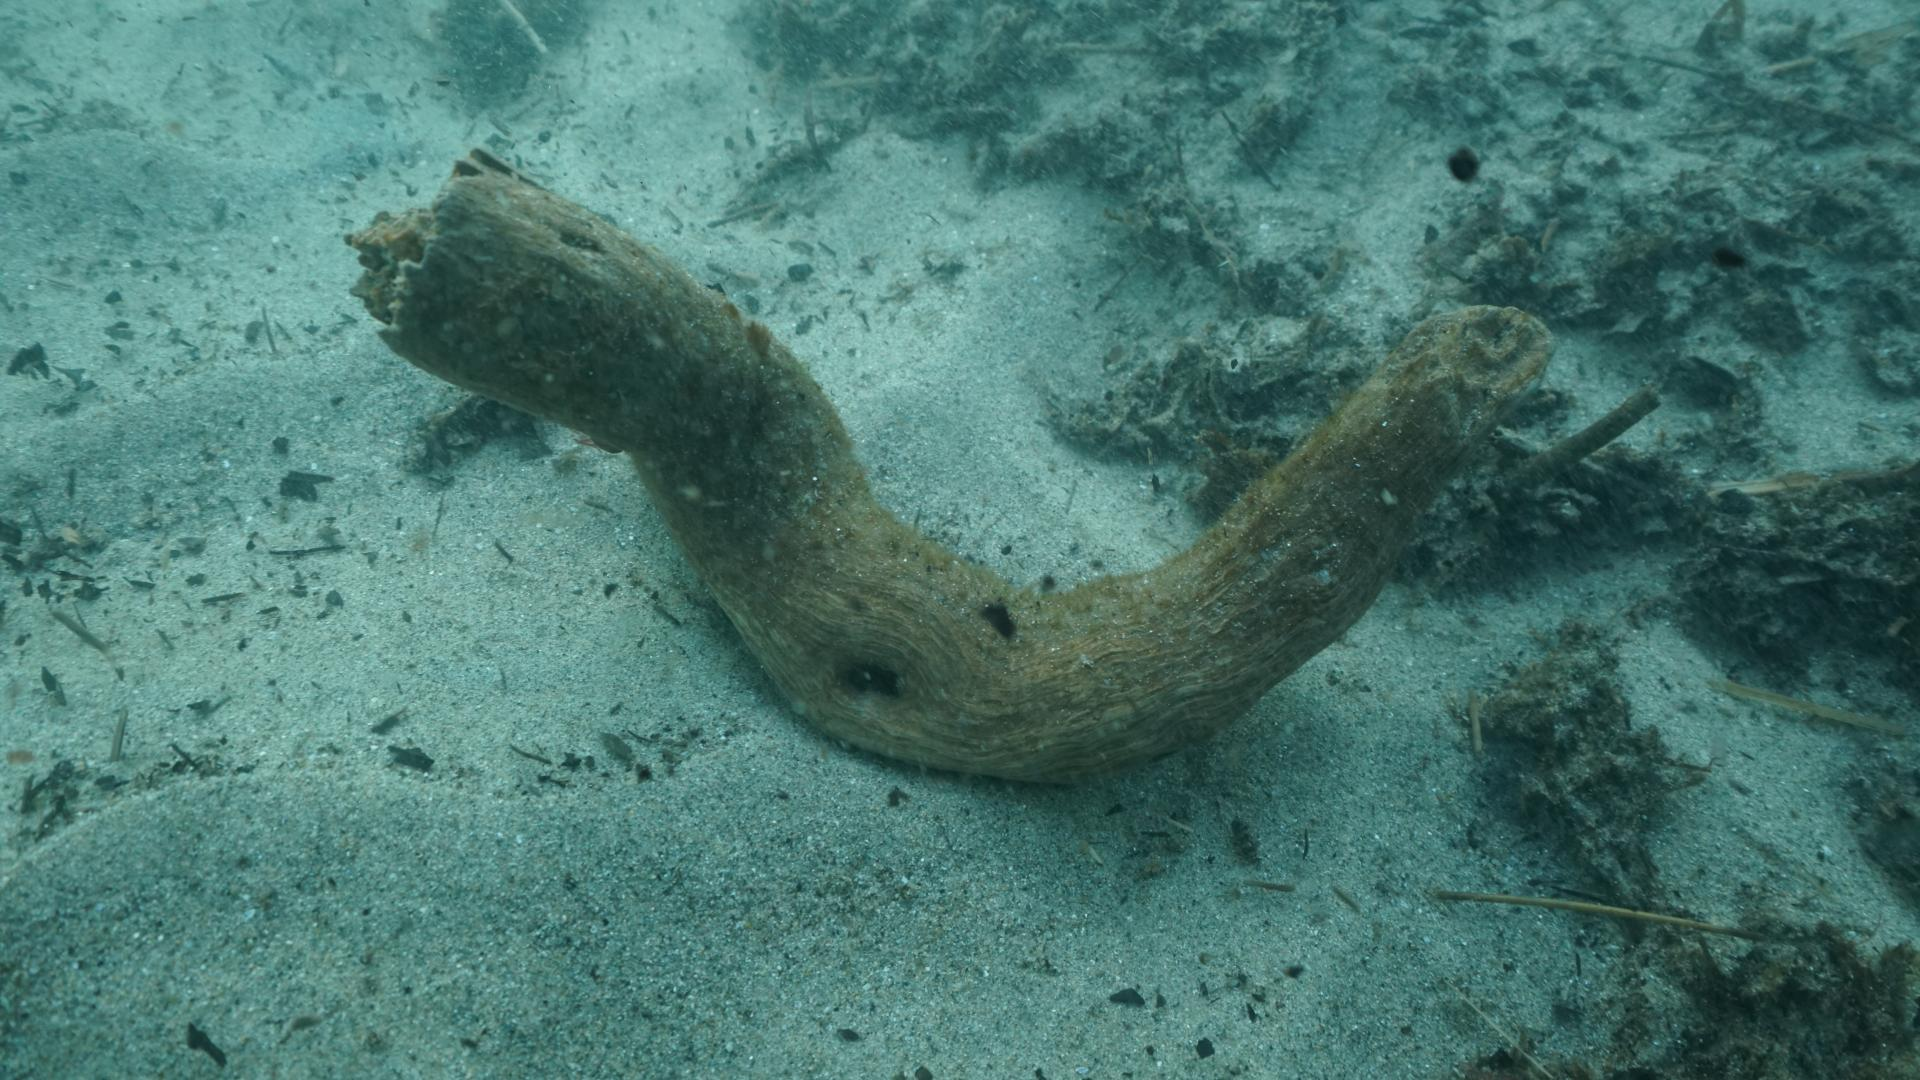wood: (352, 140, 1557, 787)
